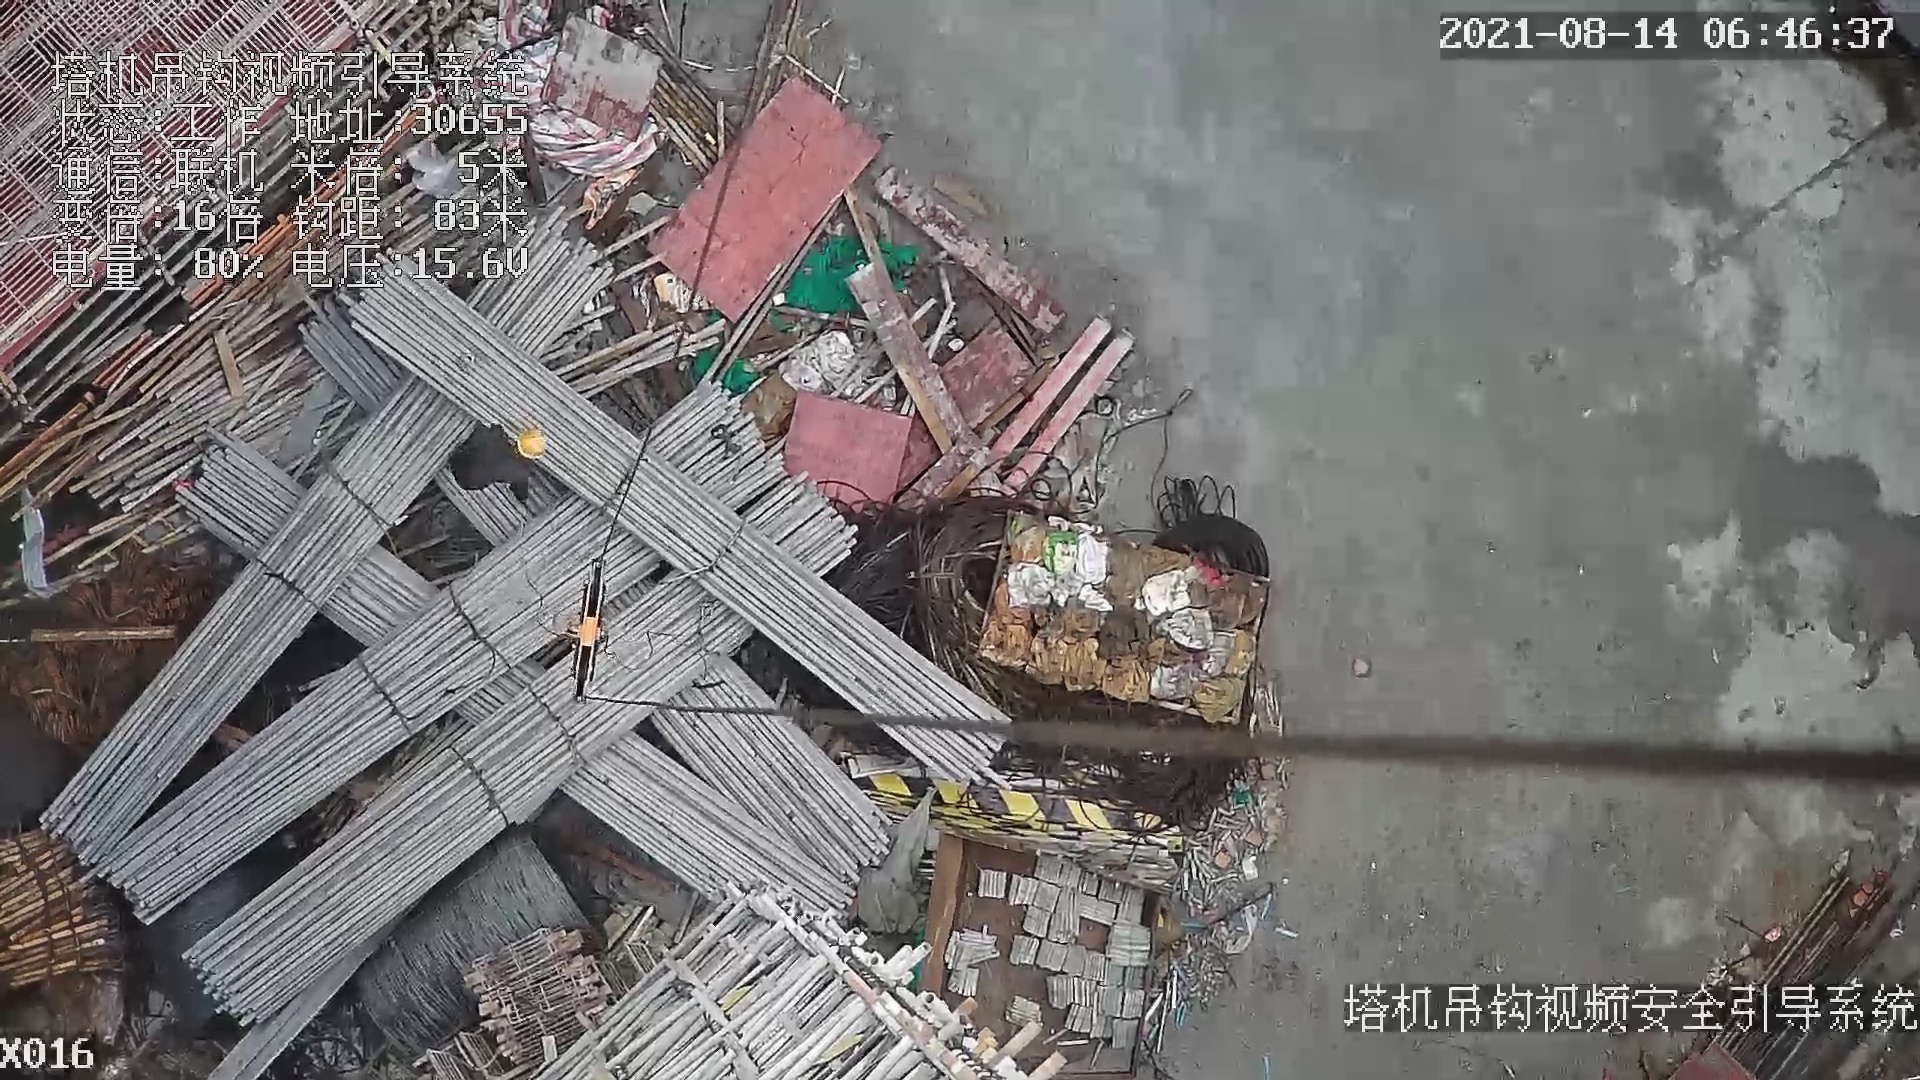board: (651, 79, 874, 313)
helmet: (515, 427, 549, 456)
hook: (569, 549, 605, 709)
person: (442, 413, 550, 506)
scaffold: (1, 830, 125, 969)
